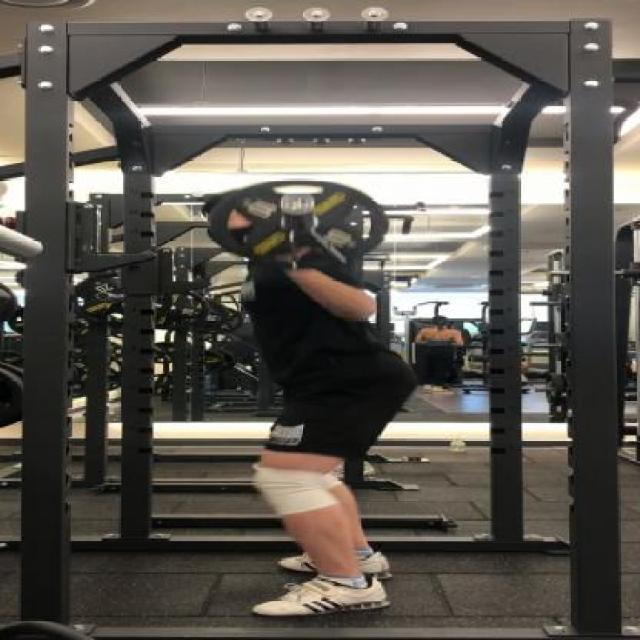barbell: (197, 174, 397, 280)
